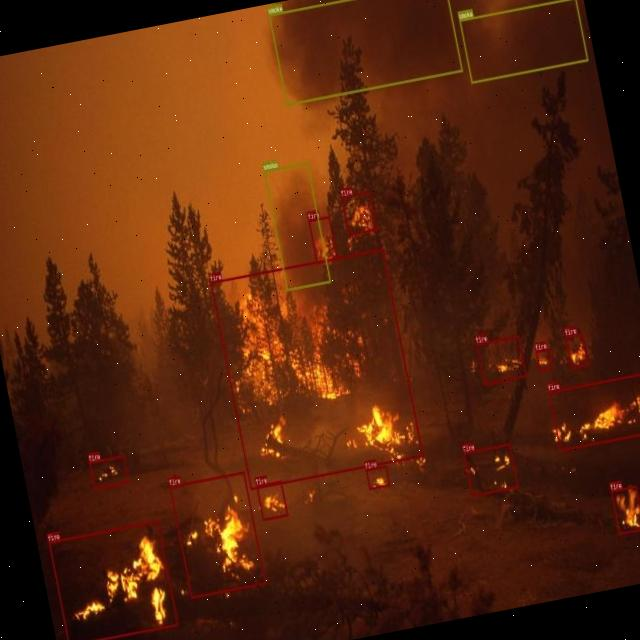fire: (211, 248, 424, 490), (48, 520, 178, 640), (170, 472, 266, 598), (548, 369, 640, 450), (462, 443, 518, 496), (476, 334, 526, 384), (341, 191, 378, 235), (308, 216, 338, 264), (611, 485, 640, 534), (89, 455, 130, 489), (256, 480, 288, 520), (564, 332, 588, 369), (365, 465, 391, 490), (536, 349, 554, 371)
smoke: (269, 0, 463, 105), (459, 0, 588, 83), (263, 162, 331, 290)
